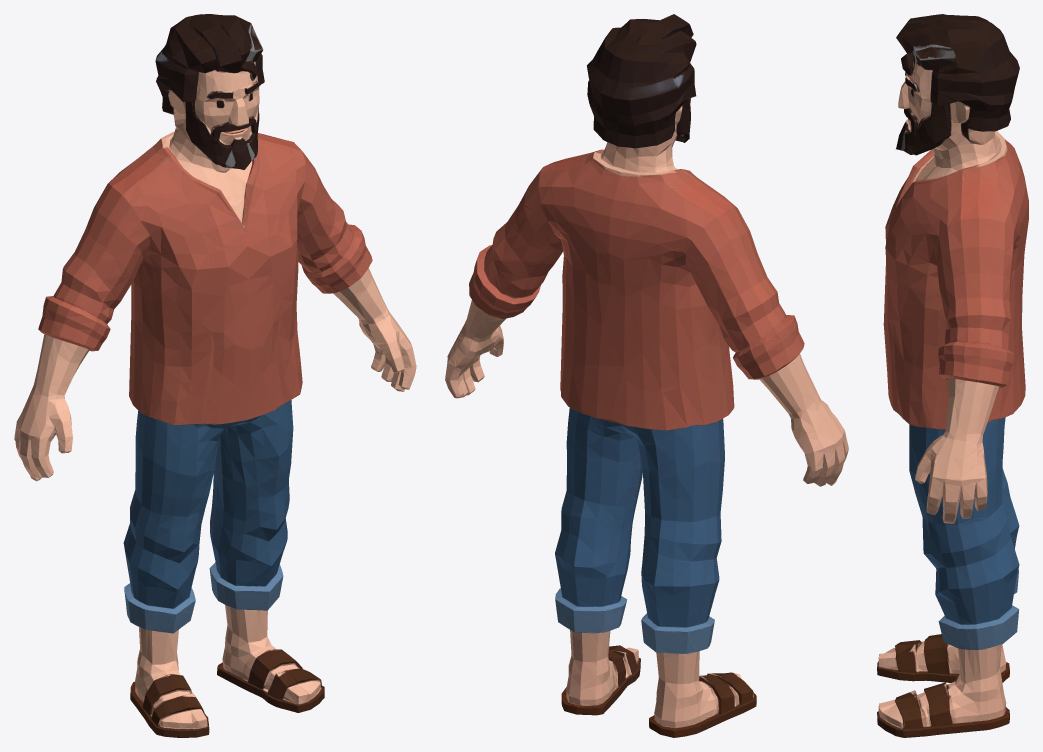
Rendered from personnage_6.glb.
3 renders of one model, left to right at view 1: azimuth 30°, elevation 25°; view 2: azimuth 150°, elevation 25°; view 3: azimuth 270°, elevation 25°, orthographic.
Parts seen in each view (by area): view 1: geometry_0; view 2: geometry_0; view 3: geometry_0.
Part boxes in pixels (x1,y1,x2,y2): geometry_0: (14,14,416,737); geometry_0: (445,14,848,737); geometry_0: (877,14,1028,737).
Size of the model in its own units: 1.14 by 1.9 by 0.3865.
1 material, 1 textured.
